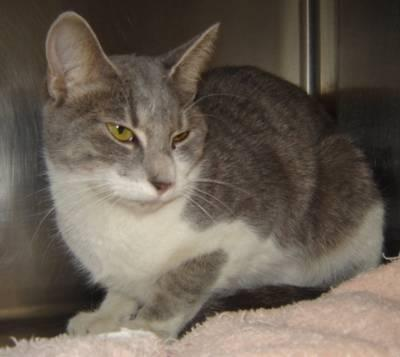cat: (42, 12, 384, 337)
